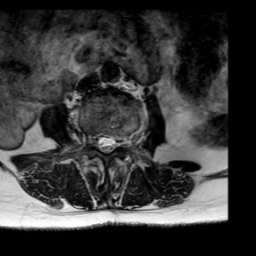CCS_normal: (102, 127, 109, 162)
LFS_normal: (117, 128, 125, 154)
LLS_normal: (109, 128, 117, 157)
RFS_normal: (87, 124, 95, 153)
RLS_normal: (95, 127, 102, 157)
